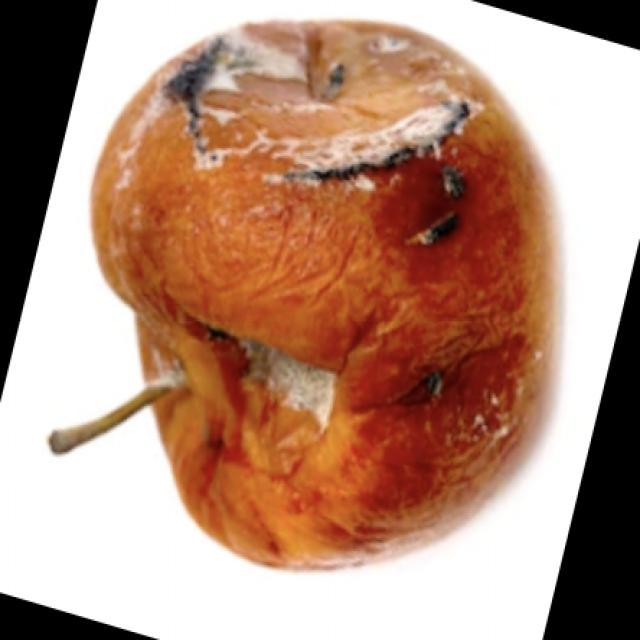Rotten: (100, 45, 568, 563)
